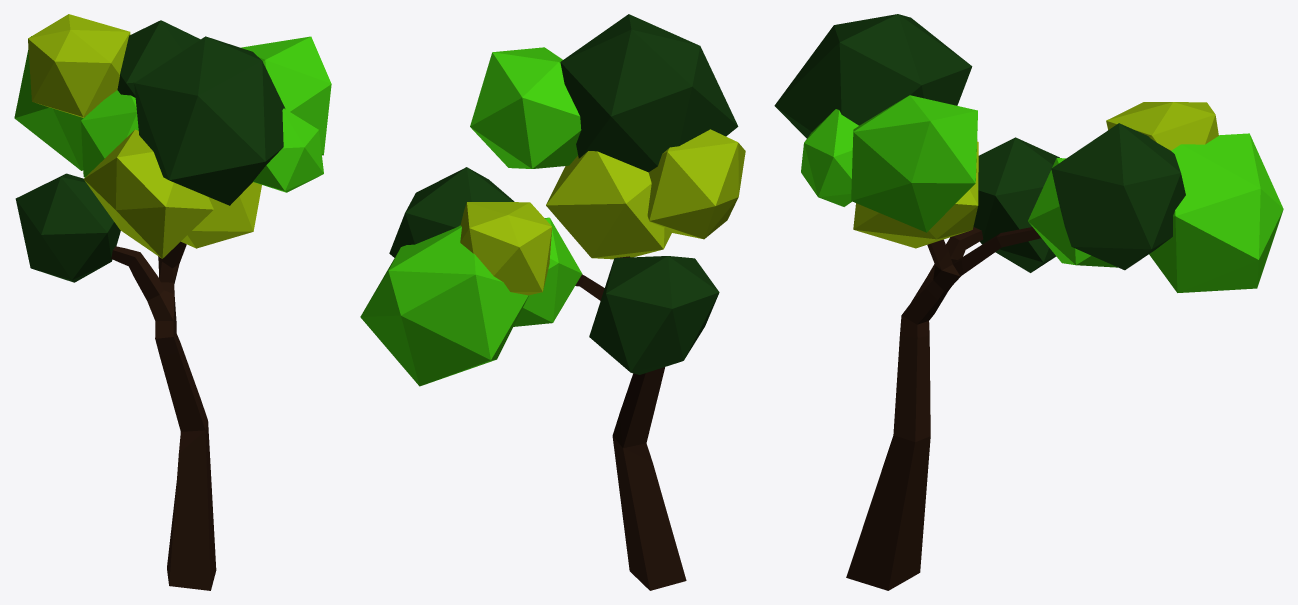
Rendered from agac-yenii.fbx.
3 renders of one model, left to right at view 1: azimuth 30°, elevation 25°; view 2: azimuth 150°, elevation 25°; view 3: azimuth 270°, elevation 25°, orthographic. The views are drawn at different scales.
Parts seen in each view (by area): view 1: leaf_4.005, tree_4, leaf_4.006, leaf_4.007, leaf_4.001, leaf_4.003, leaf_4.004, leaf_4, leaf_4.002, leaf_4.009, leaf_4.008; view 2: leaf_4.005, leaf_4, leaf_4.007, leaf_4.003, tree_4, leaf_4.008, leaf_4.006, leaf_4.001, leaf_4.002, leaf_4.009; view 3: tree_4, leaf_4, leaf_4.005, leaf_4.002, leaf_4.003, leaf_4.007, leaf_4.004, leaf_4.001, leaf_4.008, leaf_4.009.
Part boxes in pixels (x1,y1,x2,y2): leaf_4.005: (134,36,285,205); tree_4: (111,241,216,590); leaf_4.006: (84,129,213,258); leaf_4.007: (15,173,120,282); leaf_4.001: (28,14,130,117); leaf_4.003: (241,36,331,155); leaf_4.004: (253,108,323,192); leaf_4: (14,36,83,170); leaf_4.002: (117,20,200,97); leaf_4.009: (81,90,138,177); leaf_4.008: (181,182,261,248); leaf_4.005: (560,14,738,172); leaf_4: (360,225,528,386); leaf_4.007: (589,256,719,374); leaf_4.003: (470,47,581,168); tree_4: (575,256,686,590); leaf_4.008: (546,151,672,259); leaf_4.006: (647,129,745,239); leaf_4.001: (460,202,552,295); leaf_4.002: (389,167,514,257); leaf_4.009: (513,217,582,326); tree_4: (846,227,1041,590); leaf_4: (1149,133,1283,292); leaf_4.005: (774,14,972,138); leaf_4.002: (1051,123,1185,270); leaf_4.003: (851,95,977,232); leaf_4.007: (973,137,1059,272); leaf_4.004: (801,109,858,206); leaf_4.001: (1106,102,1218,150); leaf_4.008: (853,141,978,248); leaf_4.009: (1028,158,1117,267).
Bounding box in the file's own units: 57.81 × 116 × 93.73.
